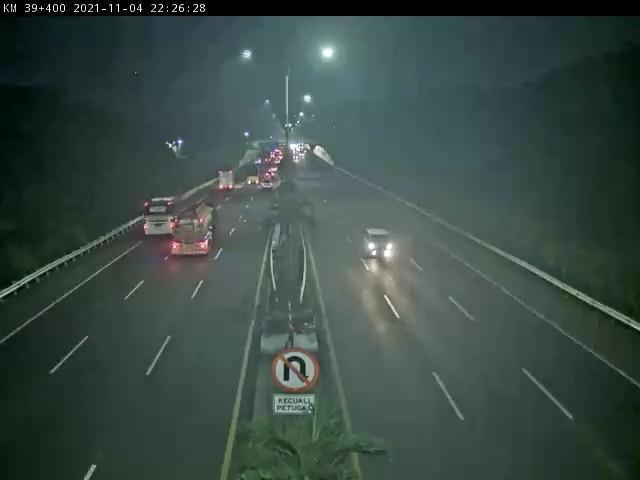bus: (143, 193, 180, 246)
car: (357, 222, 401, 270)
truck: (175, 199, 224, 264), (214, 169, 242, 198)
